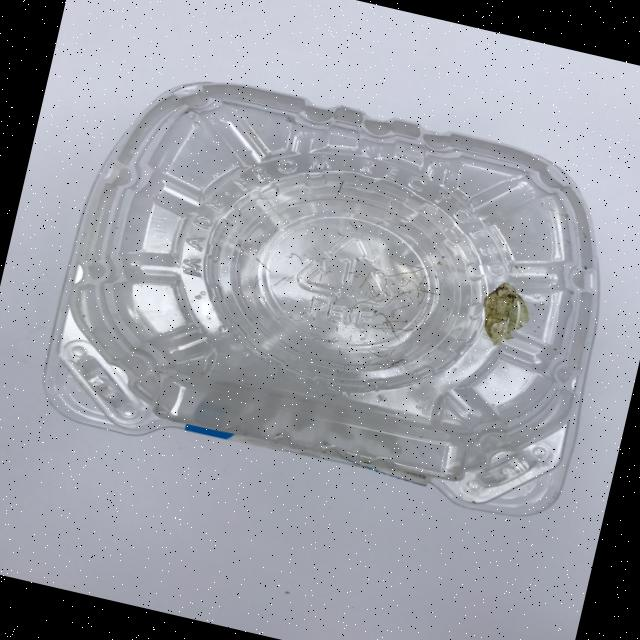plastic: (32, 51, 637, 532)
